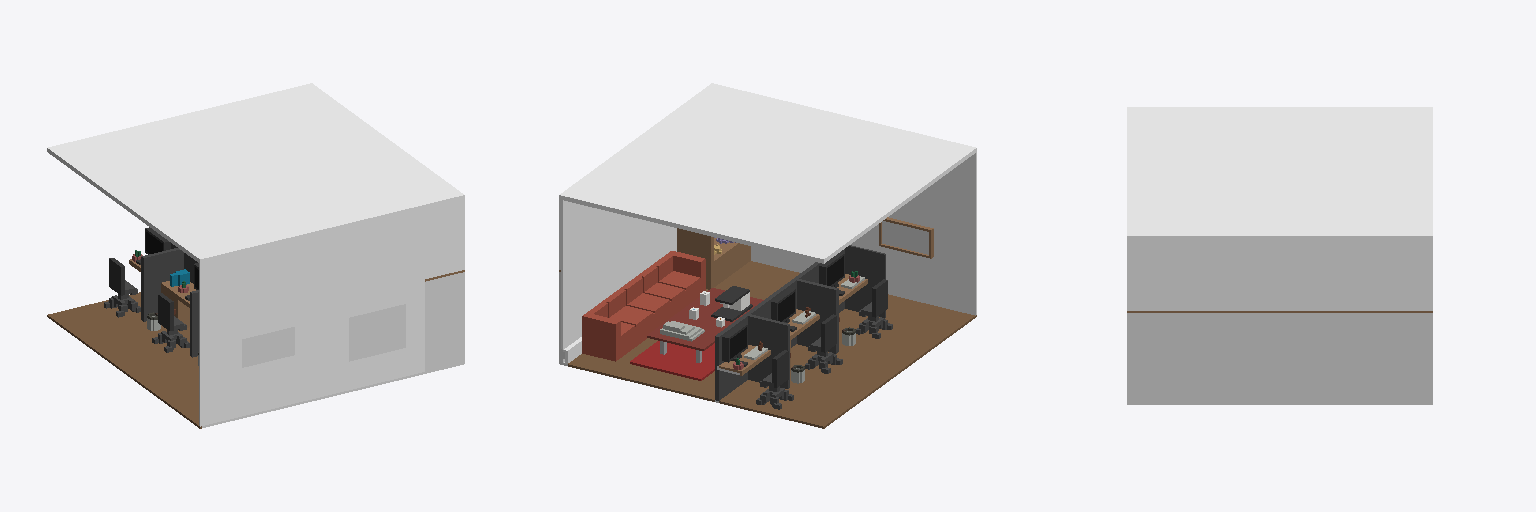
3 views of the same model, side by side, from view 1: azimuth 30°, elevation 25°; view 2: azimuth 150°, elevation 25°; view 3: azimuth 270°, elevation 25° (orthographic).
Parts seen in each view (by area): view 1: object 1; view 2: object 1; view 3: object 1.
Part boxes in pixels (x1,y1,x2,y2): object 1: (47,83,464,428); object 1: (559,83,976,428); object 1: (1127,107,1432,404).
Size of the model in its own units: 12.6 by 7.7 by 12.6.
Materials: 1 (1 with a texture image).